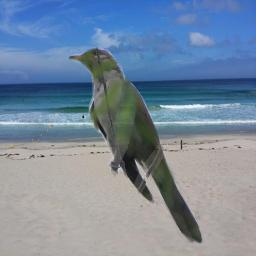Cuckoo: (69, 47, 210, 246)
